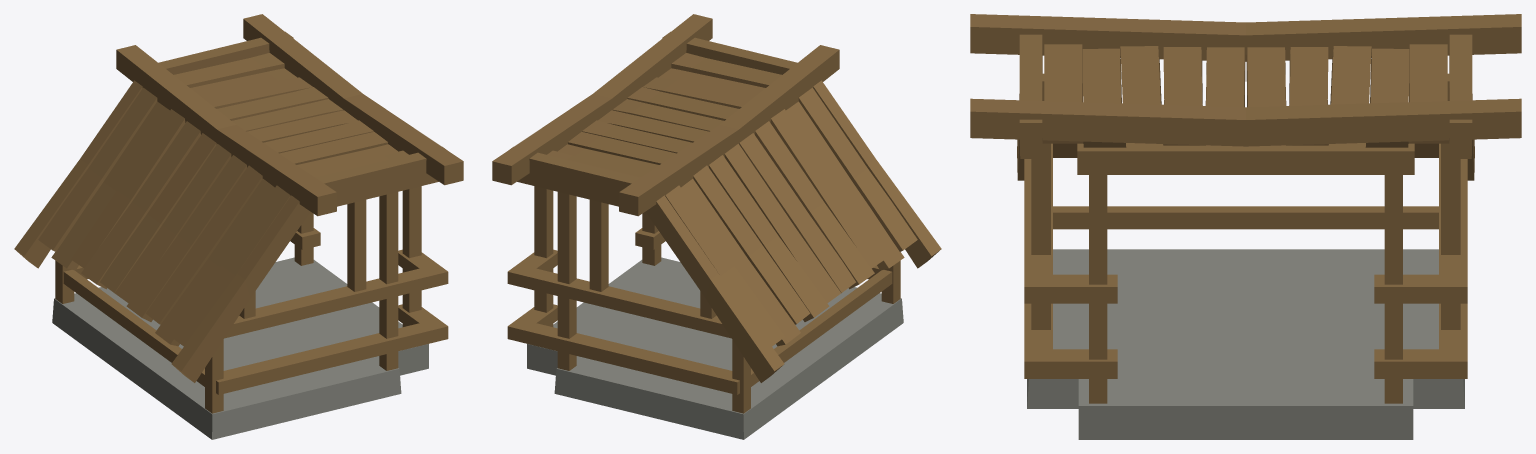
Rendered from Shack.glb.
The picture shows the model from 3 angles, left to right: view 1: azimuth 30°, elevation 25°; view 2: azimuth 150°, elevation 25°; view 3: azimuth 270°, elevation 25°; orthographic projection. The views are drawn at different scales.
Parts seen in each view (by area): view 1: Houses_FirstAge_2_Level1; view 2: Houses_FirstAge_2_Level1; view 3: Houses_FirstAge_2_Level1.
Boxes of the visible parts, <box> form: Houses_FirstAge_2_Level1: <box>14,14,463,439</box>; Houses_FirstAge_2_Level1: <box>492,14,941,439</box>; Houses_FirstAge_2_Level1: <box>970,14,1521,439</box>.
Size of the model in its own units: 0.9108 by 0.7685 by 1.17.
